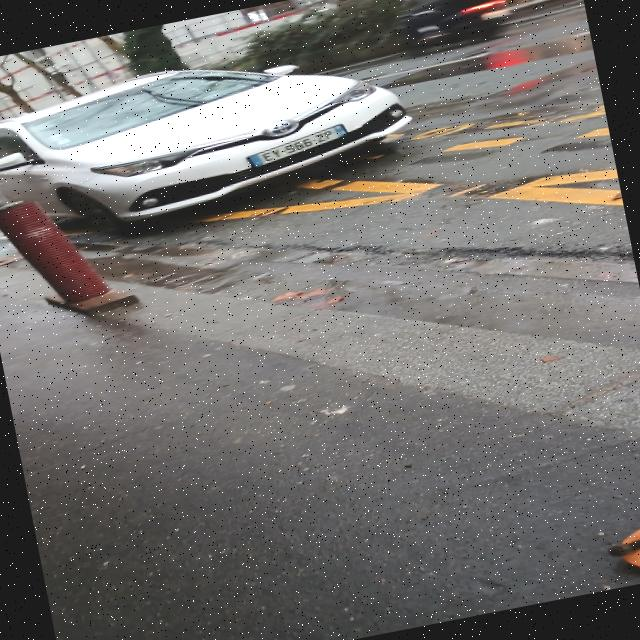Autre: (239, 117, 369, 164)
